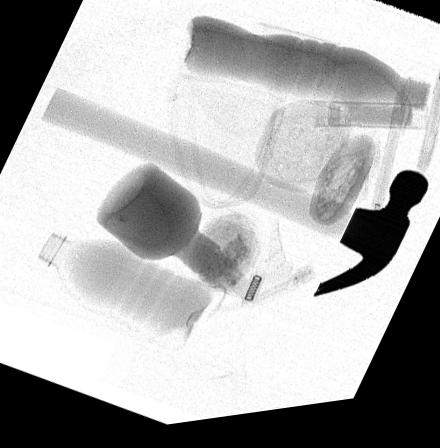Hammer: (38, 86, 428, 306)
